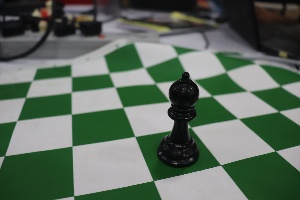black_bishop: (154, 61, 205, 171)
